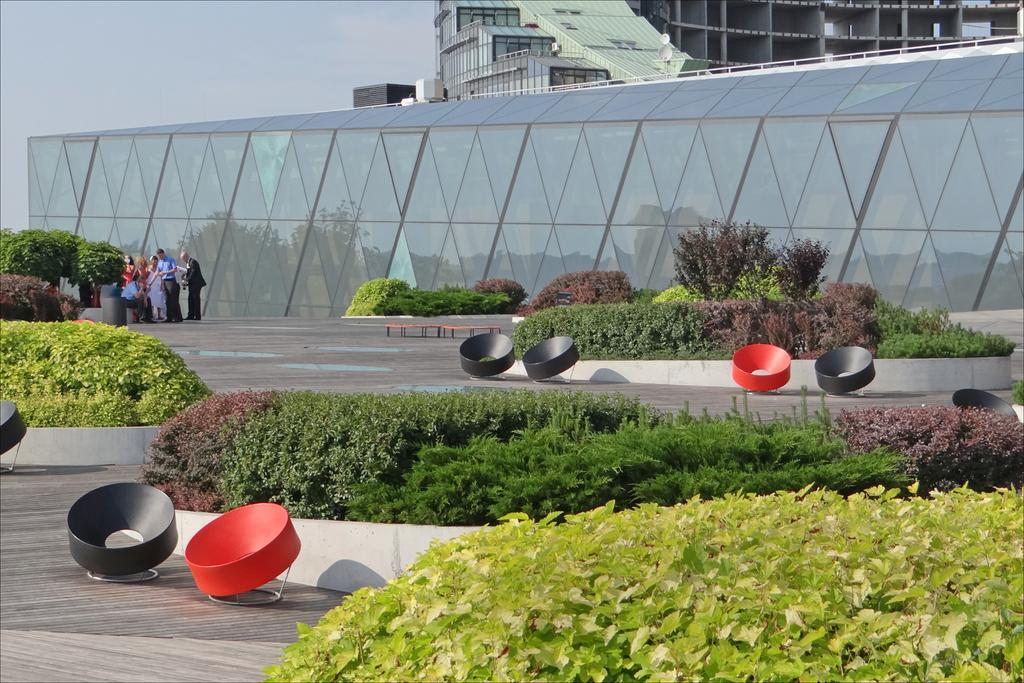Chair: (184, 501, 301, 606), (731, 343, 791, 393), (522, 335, 579, 383), (459, 333, 515, 379)
